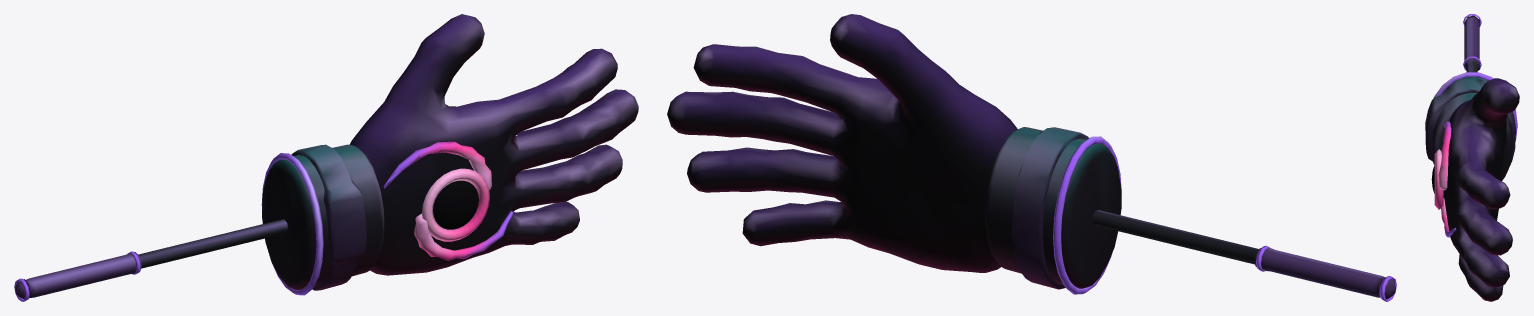
Rendered from glove_blackhole.glb.
3 renders of one model, left to right at view 1: azimuth 30°, elevation 25°; view 2: azimuth 150°, elevation 25°; view 3: azimuth 270°, elevation 25°, orthographic. The views are drawn at different scales.
Parts seen in each view (by area): view 1: Glove, Glow, Stick; view 2: Glove, Stick, Glow; view 3: Glove, Glow, Stick.
Boxes of the visible parts, bbox=[...] form: Glove: bbox=[262, 14, 638, 290]; Glow: bbox=[14, 141, 513, 301]; Stick: bbox=[15, 219, 288, 299]; Glove: bbox=[667, 14, 1121, 289]; Stick: bbox=[1092, 210, 1395, 299]; Glow: bbox=[1053, 136, 1396, 301]; Glove: bbox=[1425, 77, 1519, 301]; Glow: bbox=[1433, 14, 1517, 237]; Stick: bbox=[1464, 15, 1479, 72].
Bounding box in the file's own units: 1.17 × 0.4102 × 0.1922.
